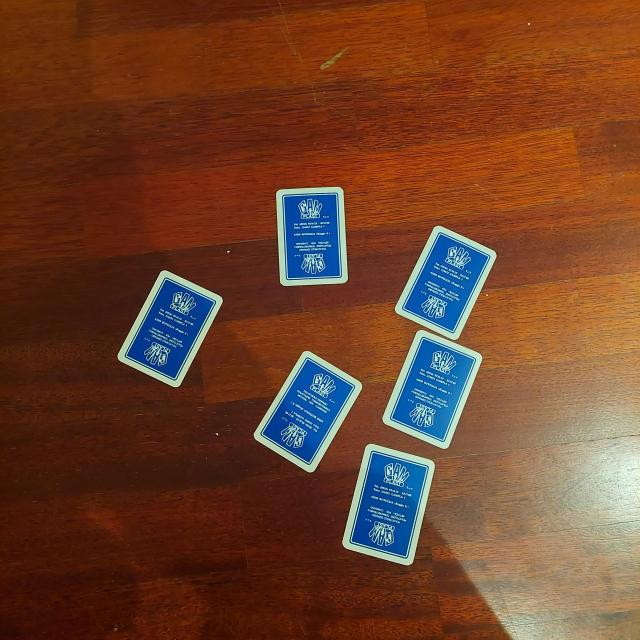card: (120, 270, 220, 392), (257, 352, 350, 472), (386, 332, 472, 447), (349, 447, 430, 565), (400, 224, 480, 335), (277, 186, 348, 288)
